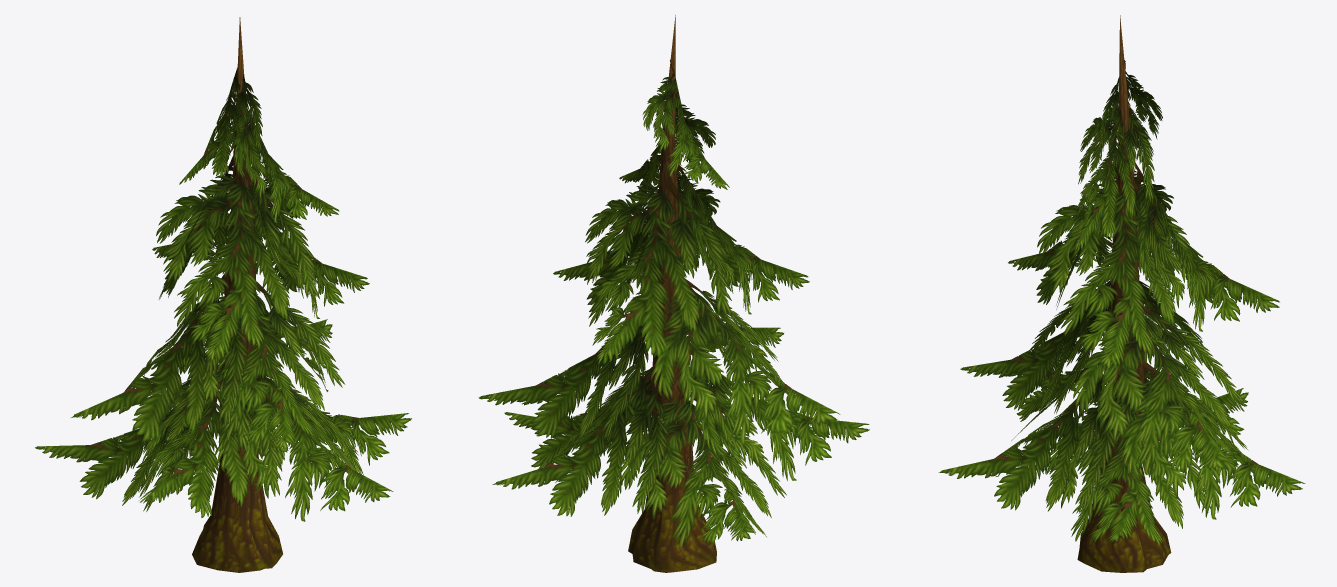
The model's file is pinetree03.fbx.
3 views of the same model, side by side, from view 1: azimuth 30°, elevation 25°; view 2: azimuth 150°, elevation 25°; view 3: azimuth 270°, elevation 25° (orthographic).
Visible parts, largest first — view 1: pinetree_3_branch, pinetree_3_trunk; view 2: pinetree_3_branch, pinetree_3_trunk; view 3: pinetree_3_branch, pinetree_3_trunk.
Boxes of the visible parts, <box> form: pinetree_3_branch: <box>35,67,411,521</box>; pinetree_3_trunk: <box>192,17,282,572</box>; pinetree_3_branch: <box>478,59,869,548</box>; pinetree_3_trunk: <box>628,15,716,572</box>; pinetree_3_branch: <box>938,59,1305,546</box>; pinetree_3_trunk: <box>1077,15,1171,572</box>.
Bounding box in the file's own units: 8.13 × 11.23 × 7.58.
